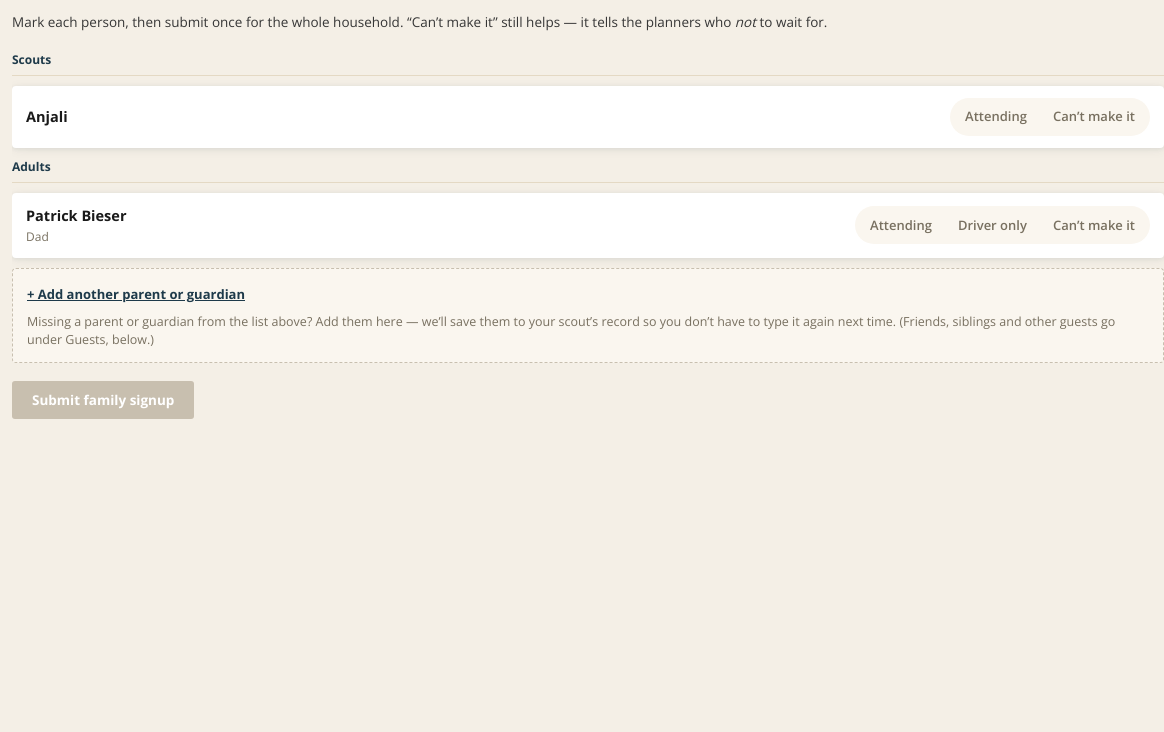
Test case: PersonFirstForm — transportation › Family_SeesVehicleSeatsPrefilled_WhenDriverHasRememberedCapacity
# Buttons in DOM order: the scout's Attending, then the adult's.
Click the button "Attending" in the row of "Patrick Bieser" at (901, 225), box left=858, top=209, right=944, bottom=241
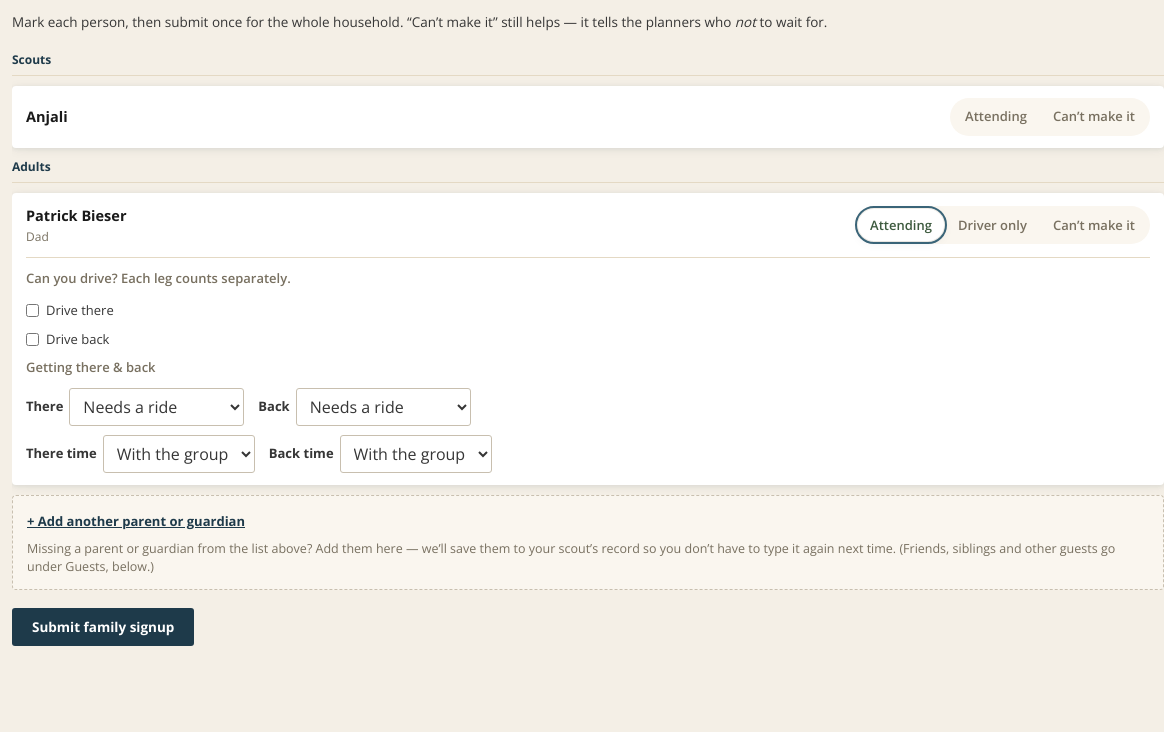
Click the checkbox labelled "Drive there" at (32, 311), box left=26, top=304, right=39, bottom=317
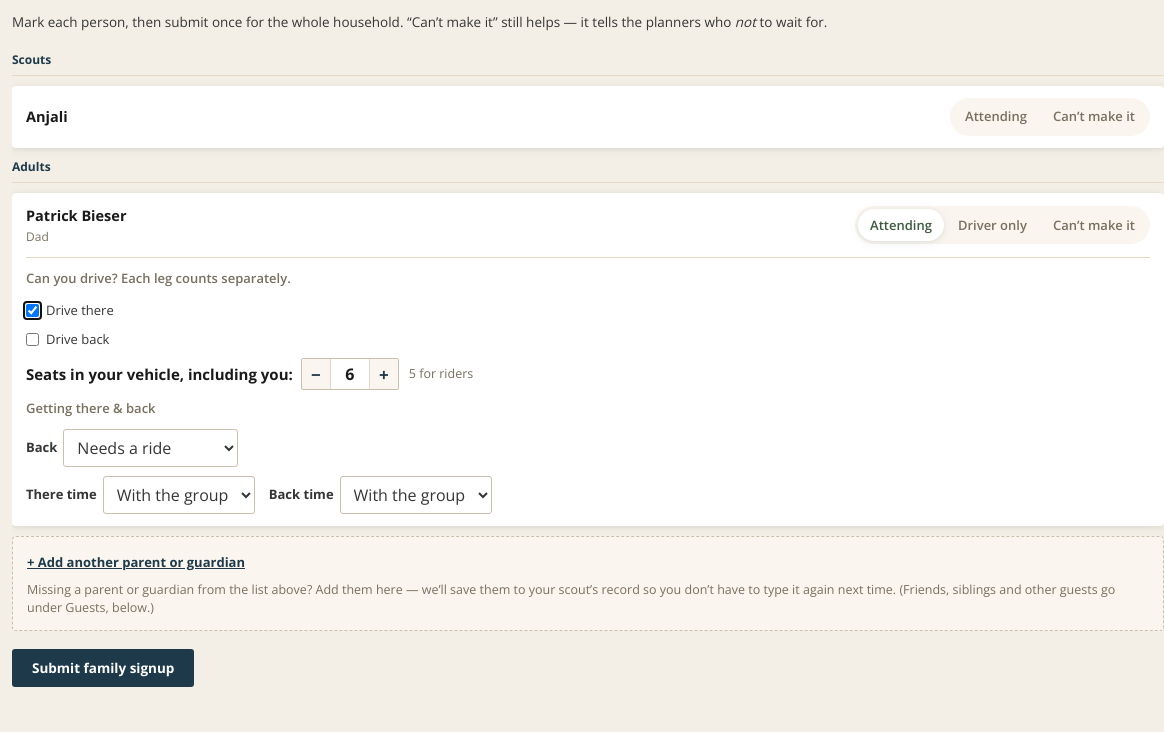
Result: the number field labelled "Seats in your vehicle, including you:" holds "6" at left=330, top=359, right=370, bottom=389
